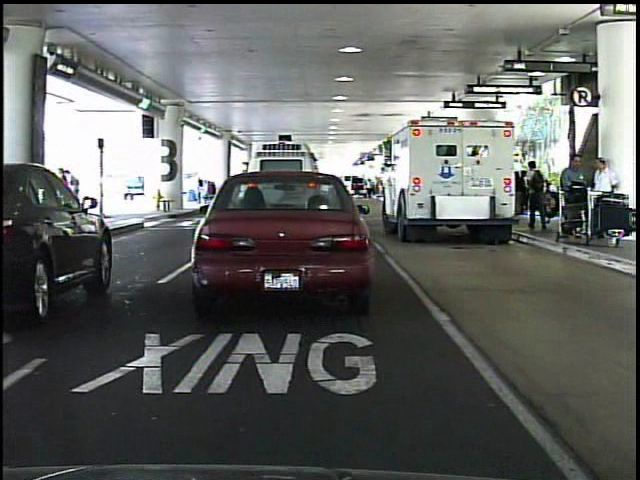person: (60, 167, 82, 226)
